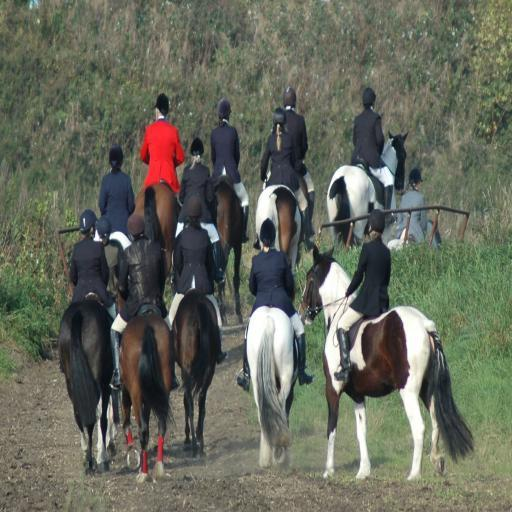horse: (56, 172, 476, 484), (326, 128, 410, 252)
